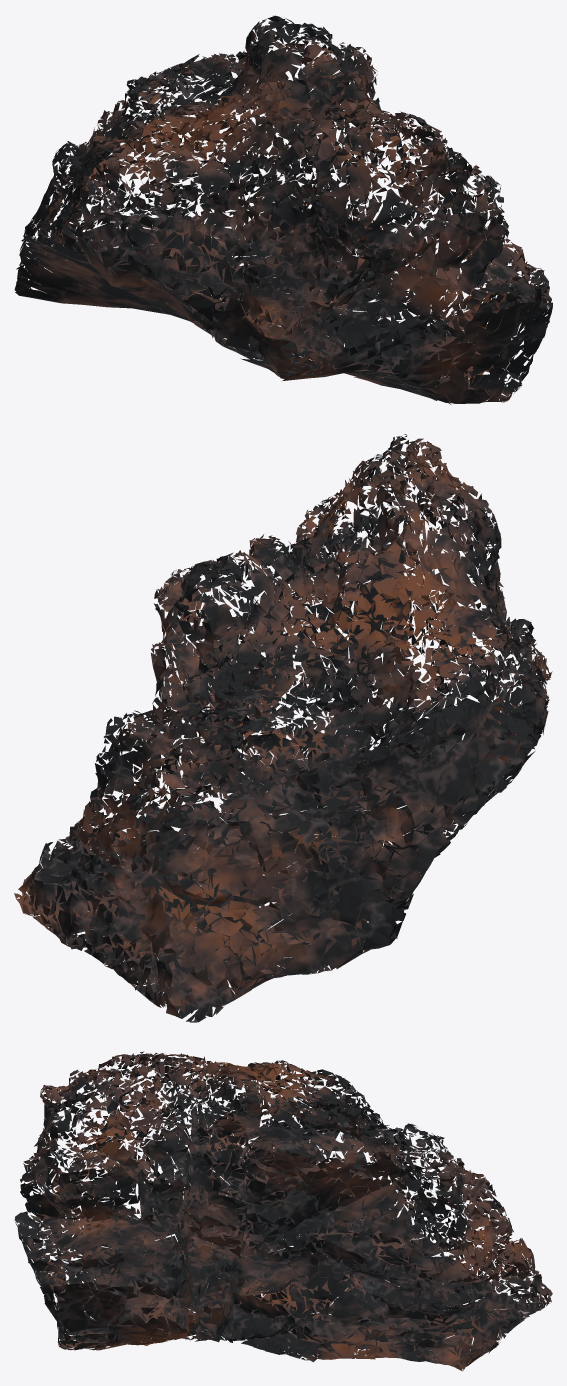
Rendered from mineral_hierro_v008_web_candidate.glb.
The picture shows the model from 3 angles, top to bottom: view 1: azimuth 30°, elevation 25°; view 2: azimuth 150°, elevation 25°; view 3: azimuth 270°, elevation 25°; orthographic projection. The views are drawn at different scales.
Parts seen in each view (by area): view 1: EXPORT_hierro; view 2: EXPORT_hierro; view 3: EXPORT_hierro.
Boxes of the visible parts, box(x1,y1,x2,y2) form: EXPORT_hierro: box(14, 15, 552, 404); EXPORT_hierro: box(14, 434, 552, 1022); EXPORT_hierro: box(14, 1051, 552, 1371).
Bounding box in the file's own units: 1.25 × 0.9846 × 1.8.
Materials: 1 (1 with a texture image).
